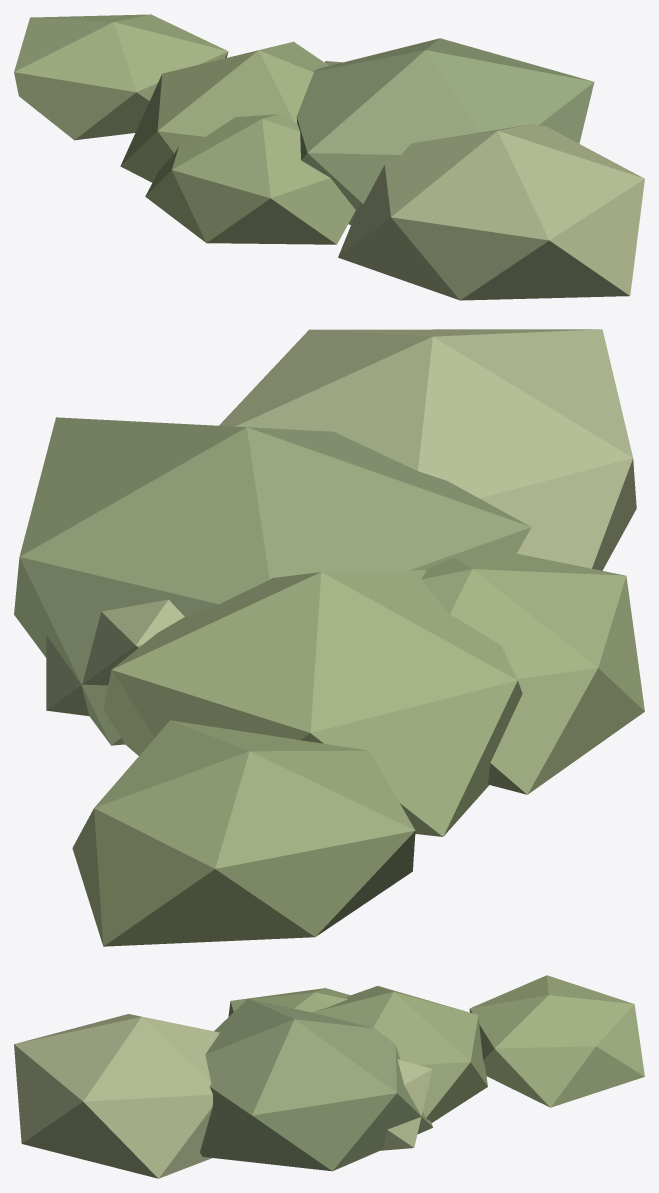
File: MossHummocks.glb
The picture shows the model from 3 angles, top to bottom: view 1: azimuth 30°, elevation 25°; view 2: azimuth 150°, elevation 25°; view 3: azimuth 270°, elevation 25°; orthographic projection. The views are drawn at different scales.
Parts seen in each view (by area): view 1: Moss.003, Moss, Moss.001, Moss.005, Moss.004; view 2: Moss, Moss.004, Moss.005, Moss.003, Moss.001, Moss.002; view 3: Moss, Moss.003, Moss.005, Moss.004, Moss.002, Moss.001.
Boxes of the visible parts, x1,y1,x2,y2 form: Moss.003: [338, 124, 644, 300]; Moss: [296, 38, 594, 224]; Moss.001: [145, 114, 355, 244]; Moss.005: [14, 14, 228, 140]; Moss.004: [120, 41, 328, 182]; Moss: [14, 417, 531, 745]; Moss.004: [103, 570, 522, 836]; Moss.005: [72, 720, 415, 946]; Moss.003: [219, 329, 636, 570]; Moss.001: [421, 553, 644, 794]; Moss.002: [46, 599, 184, 716]; Moss: [200, 998, 432, 1171]; Moss.003: [14, 1014, 219, 1178]; Moss.005: [469, 975, 644, 1107]; Moss.004: [311, 986, 487, 1122]; Moss.002: [380, 1059, 432, 1150]; Moss.001: [228, 988, 350, 1016].
Bounding box in the file's own units: 1.33 × 0.5587 × 2.21.
